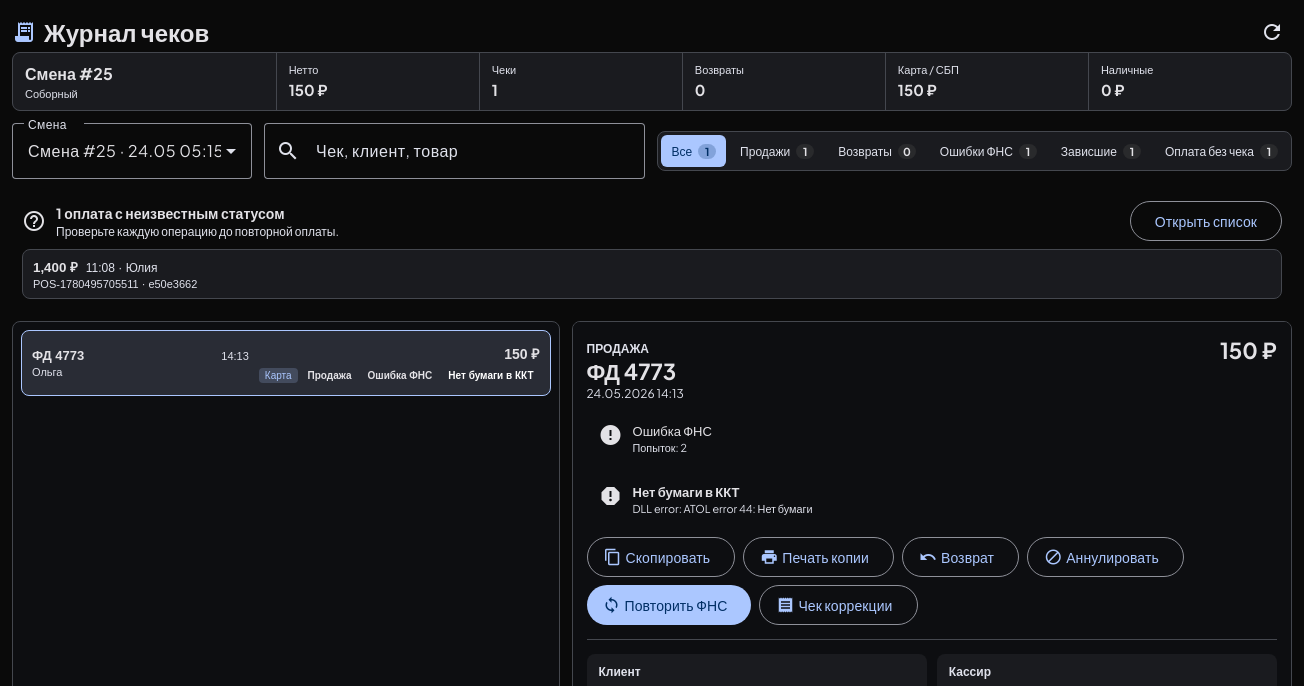
Test: PosReceiptJournalDialogComponent › shows the orphan tab with its count and renders the list when selected
What coordinates should you click on to do the following:
click the tab "Оплата без чека 1"
I would click on:
 (1221, 151)
Its box is 1155,135 -> 1288,167.
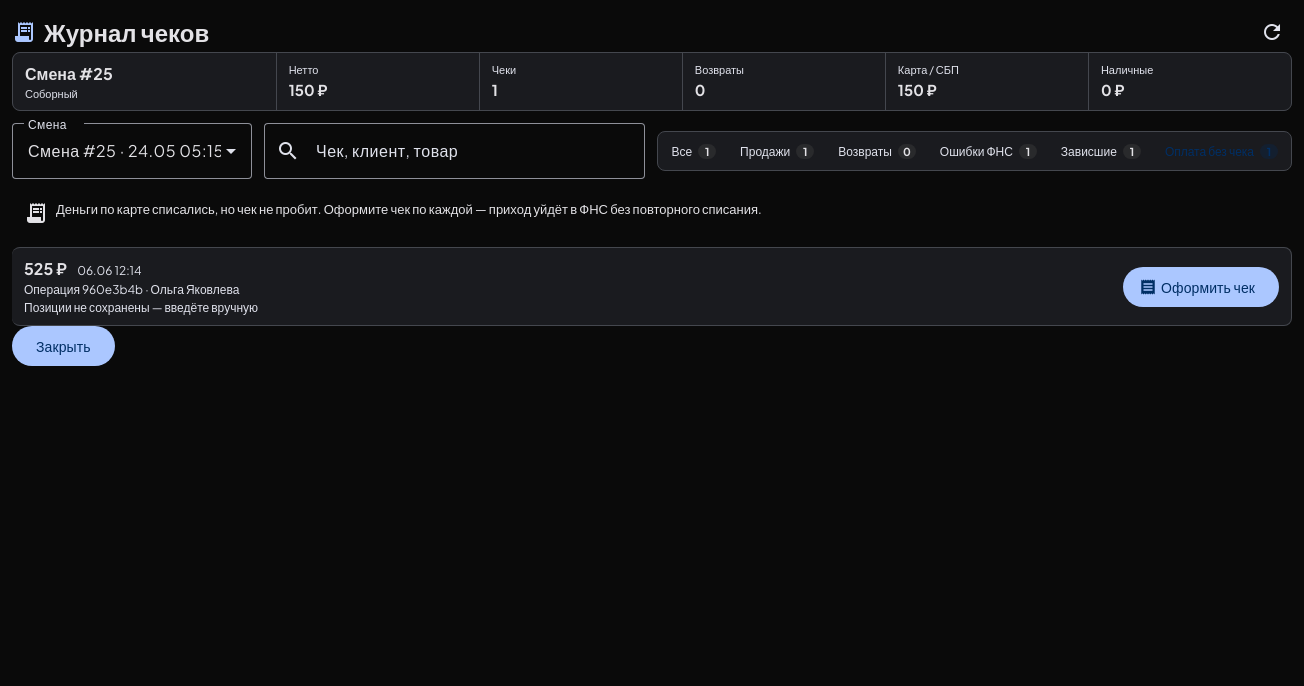
Expected: the text "525 ₽" is shown, 24,258 -> 67,279
Expected: the text "960e3b4b" is shown, 24,282 -> 145,297
Expected: the text "Оформить чек" is shown, 1161,278 -> 1255,296
